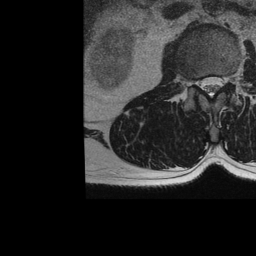CCS_normal: (207, 68, 215, 105)
LFS_normal: (224, 67, 232, 89)
LLS_normal: (215, 67, 224, 96)
RFS_stenosis: (189, 70, 198, 92)
RLS_normal: (198, 69, 207, 96)
